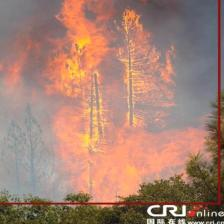fire: (0, 0, 220, 204)
